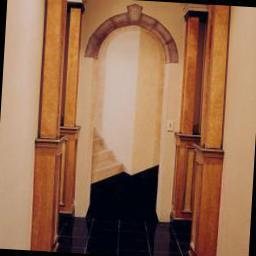Escaleras: (88, 125, 128, 184)
